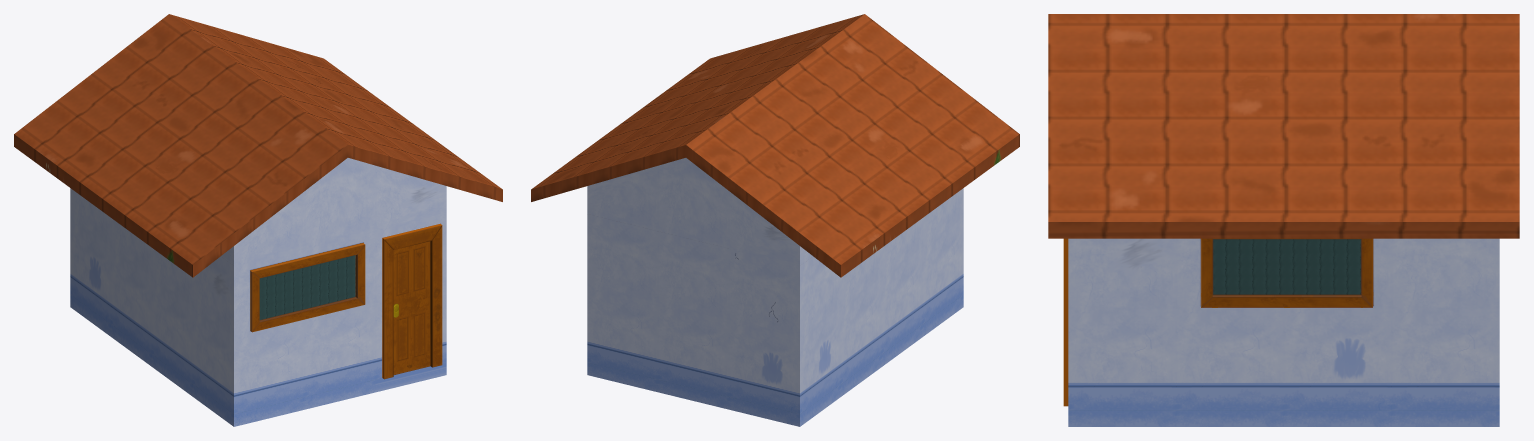
The model's file is Houses_SuburbanHouseWhite1.fbx.
3 renders of one model, left to right at view 1: azimuth 30°, elevation 25°; view 2: azimuth 150°, elevation 25°; view 3: azimuth 270°, elevation 25°, orthographic. The views are drawn at different scales.
Visible parts, largest first — view 1: House1.2; view 2: House1.2; view 3: House1.2.
Boxes of the visible parts, <box> form: House1.2: <box>14,14,502,426</box>; House1.2: <box>531,14,1019,426</box>; House1.2: <box>1048,14,1519,426</box>.
Bounding box in the file's own units: 405 × 327 × 405.
1 material, 1 textured.
